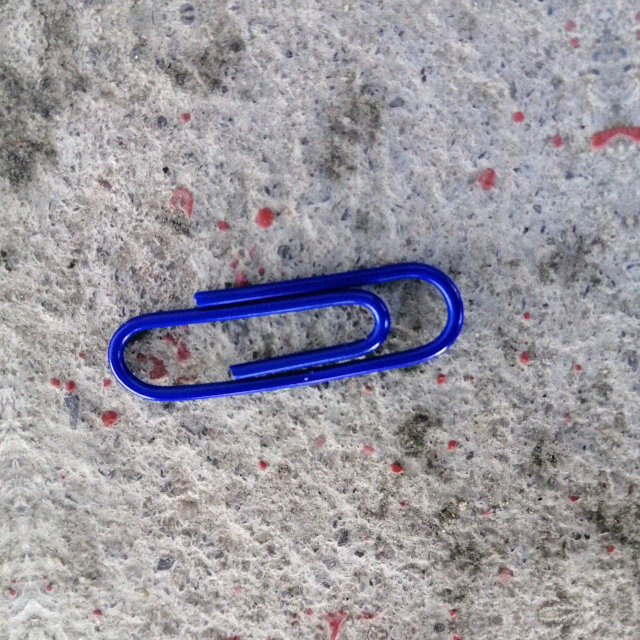pin: (108, 264, 464, 407)
